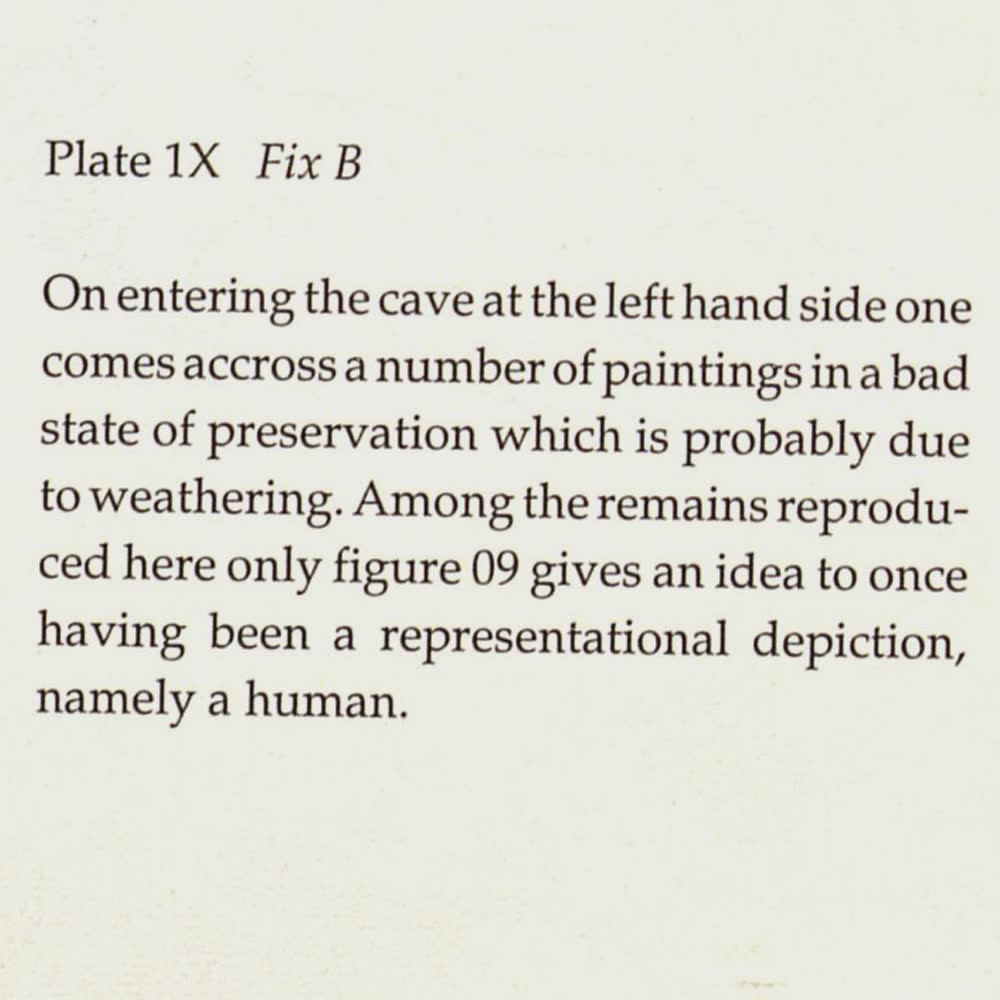text: (33, 132, 975, 732)
